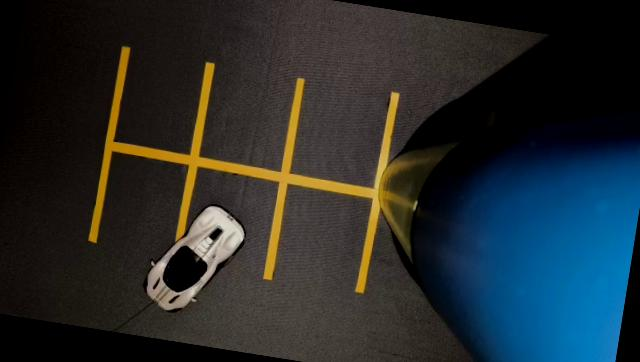toy_car: (122, 182, 264, 330)
